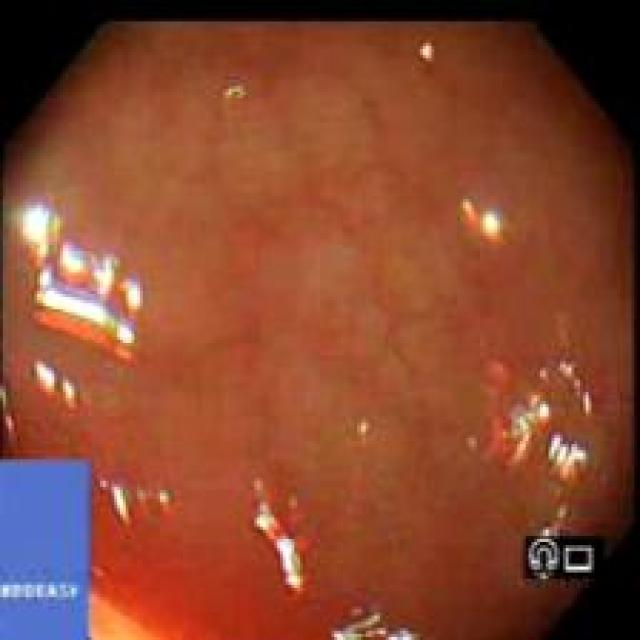color misalignment: (5, 199, 146, 368), (2, 461, 91, 640), (257, 485, 319, 599), (482, 368, 554, 466), (101, 482, 175, 527), (546, 432, 593, 498), (529, 540, 596, 585), (30, 363, 82, 413), (5, 389, 20, 448), (225, 85, 259, 103), (358, 418, 373, 450)
specularity: (40, 275, 133, 347), (334, 609, 420, 640), (558, 363, 598, 421), (465, 204, 504, 244), (25, 212, 49, 260), (551, 440, 586, 466), (544, 508, 573, 538), (282, 546, 297, 585), (519, 424, 531, 458), (64, 254, 84, 273), (40, 365, 57, 387), (101, 267, 111, 297), (116, 490, 126, 514), (420, 48, 432, 64), (131, 291, 141, 307), (64, 384, 74, 400), (539, 405, 551, 418), (257, 522, 269, 530)
